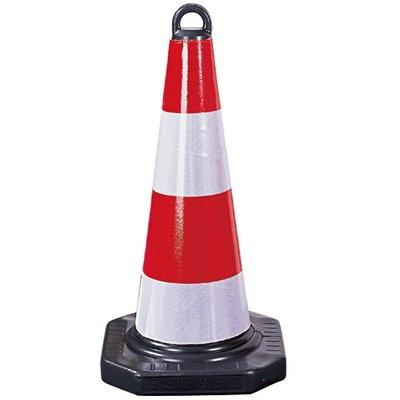cone_barrel: (117, 9, 270, 367)
